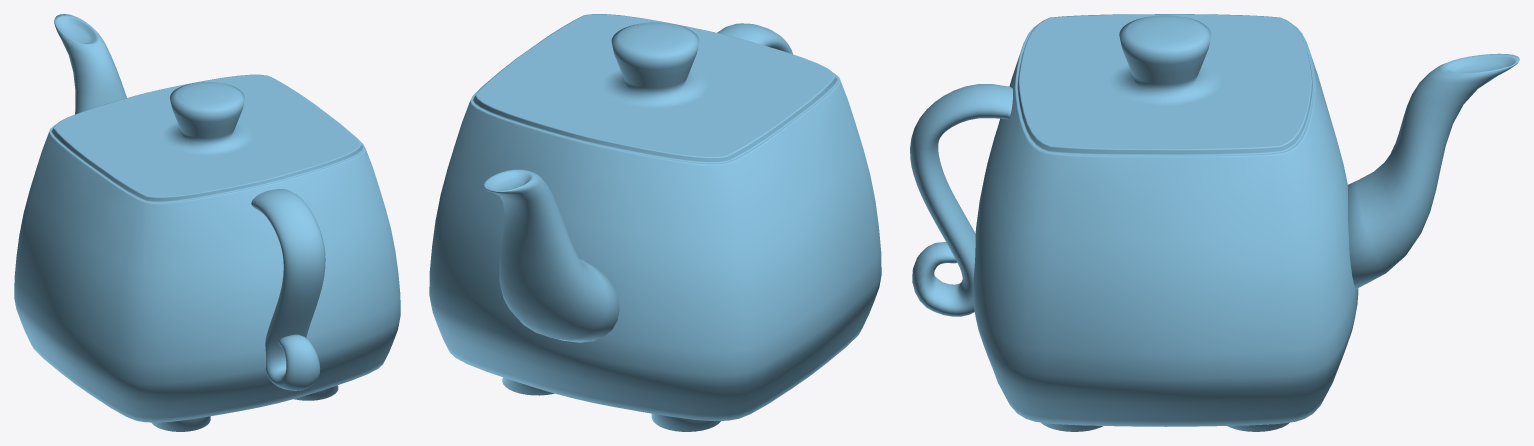
Rendered from teapot_a90fd116b4b1.glb.
3 renders of one model, left to right at view 1: azimuth 30°, elevation 25°; view 2: azimuth 150°, elevation 25°; view 3: azimuth 270°, elevation 25°, orthographic. The views are drawn at different scales.
Parts seen in each view (by area): view 1: Object_2; view 2: Object_2; view 3: Object_2.
Boxes of the visible parts, <box> form: Object_2: <box>14,14,400,431</box>; Object_2: <box>429,14,881,431</box>; Object_2: <box>910,14,1519,431</box>.
Bounding box in the file's own units: 1.55 × 1.43 × 2.27.
